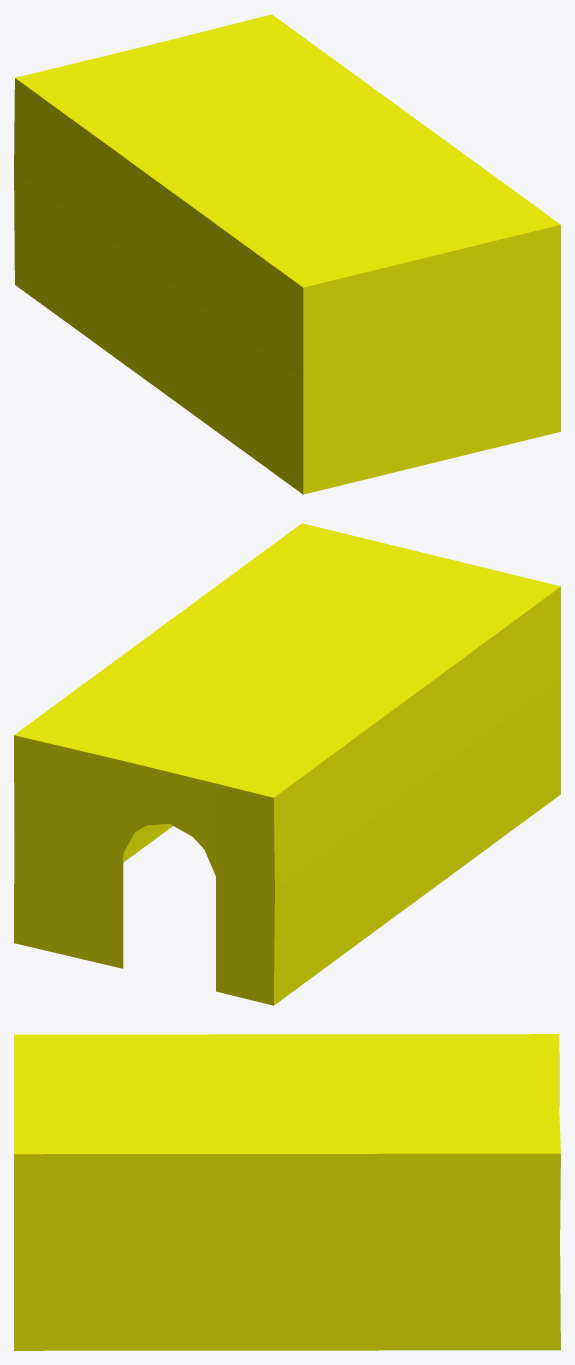
File: Salle-H.FBX
3 views of the same model, one above another, from view 1: azimuth 30°, elevation 25°; view 2: azimuth 150°, elevation 25°; view 3: azimuth 270°, elevation 25° (orthographic). The views are drawn at different scales.
Parts seen in each view (by area): view 1: SalleH; view 2: SalleH; view 3: SalleH.
Part boxes in pixels (bbox=[...]): SalleH: bbox=[14, 14, 560, 494]; SalleH: bbox=[14, 523, 560, 1005]; SalleH: bbox=[14, 1034, 560, 1350].
Size of the model in its own units: 167 by 127 by 320.
